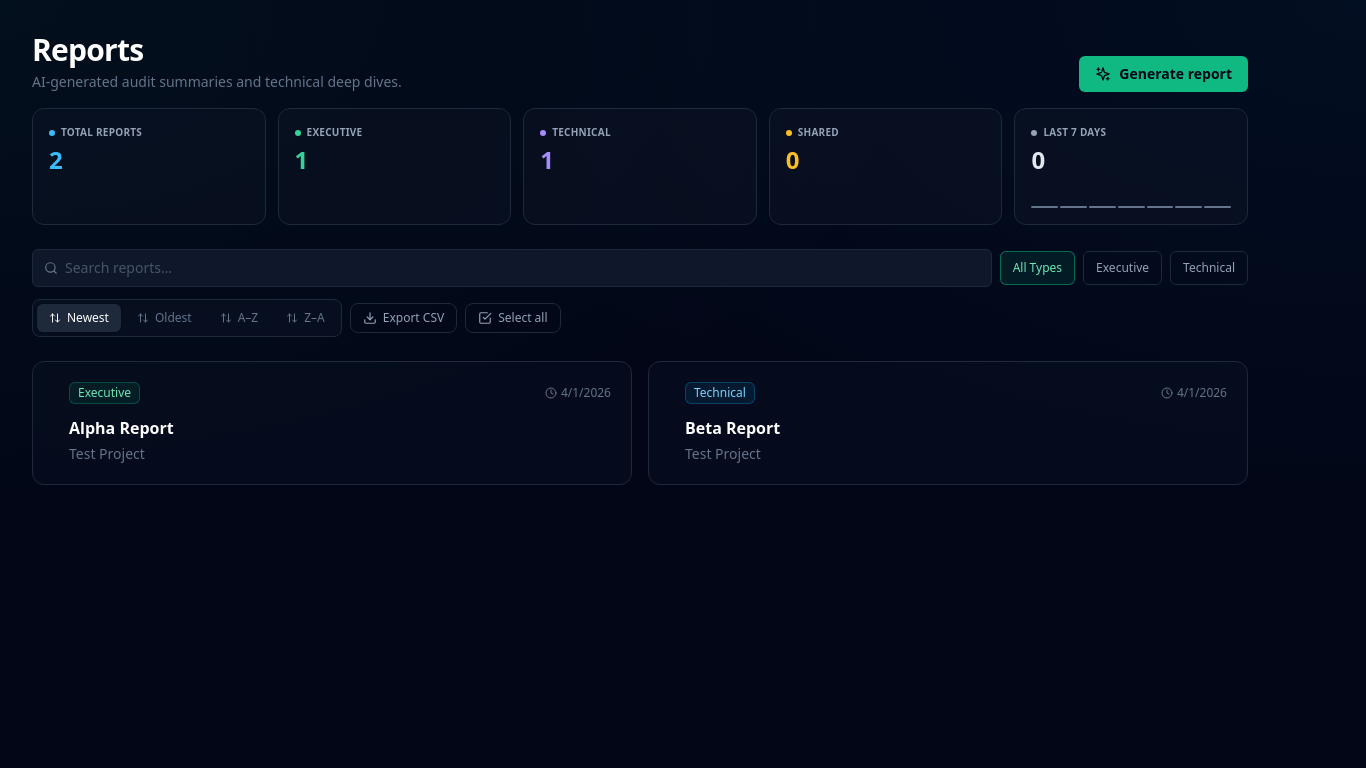
Test: Reports — bulk & filter functions › selects all reports when "Select all" button clicked
This screenshot has width=1366, height=768.
Expected: the heading "Alpha Report" is shown, x1=69 y1=417 x2=174 y2=439
Click the button "Select all": {"x": 513, "y": 318} x1=465 y1=303 x2=561 y2=333
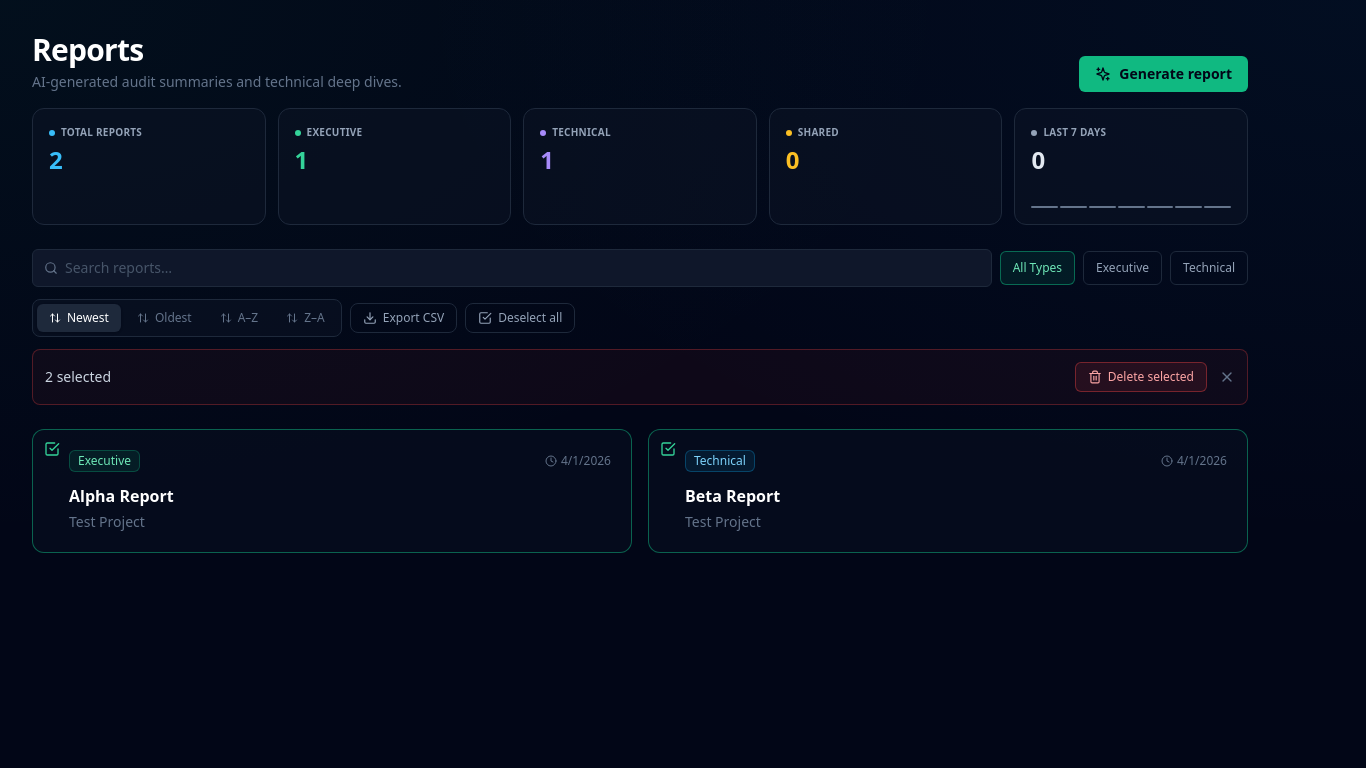
Now the button "Deselect all" is shown, box x1=465 y1=303 x2=575 y2=333
